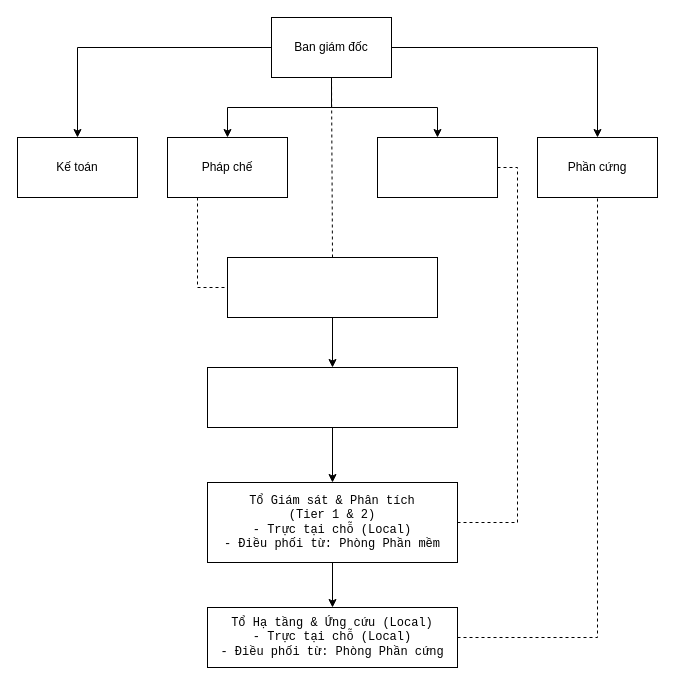
Some shapes in this 675 by 688 pixel diagram are drawn without their labels. Here are the shapes that lost their labels. From the top down, the box of each, then its label:
(376, 136, 498, 198): Phần mềm
(226, 256, 438, 318): TRUNG TÂM ĐIỀU HÀNH ATTT (SOC)
(206, 366, 458, 428): Ban Chuyên gia (Tier 3 / Remote)
